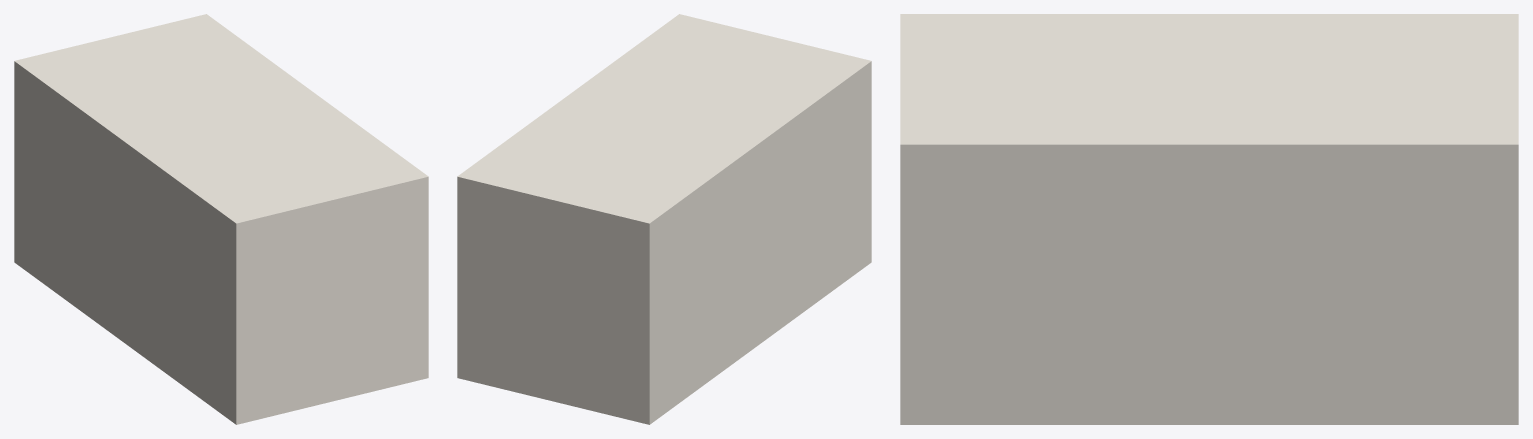
File: seagull__tail.glb
The picture shows the model from 3 angles, left to right: view 1: azimuth 30°, elevation 25°; view 2: azimuth 150°, elevation 25°; view 3: azimuth 270°, elevation 25°; orthographic projection. The views are drawn at different scales.
Parts seen in each view (by area): view 1: seagull__tail; view 2: seagull__tail; view 3: seagull__tail.
Boxes of the visible parts, x1,y1,x2,y2 form: seagull__tail: [14, 14, 428, 424]; seagull__tail: [457, 14, 871, 424]; seagull__tail: [900, 14, 1518, 424].
Bounding box in the file's own units: 0.2 × 0.2 × 0.4.
1 material, 1 textured.
